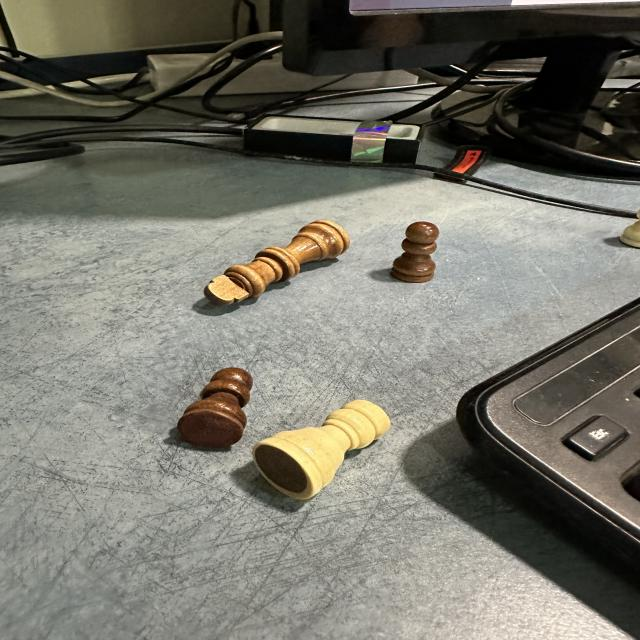Black-King: (205, 220, 350, 306)
Black-Pawn: (179, 366, 253, 448), (392, 221, 439, 283)
White-Rook: (253, 400, 392, 498)
